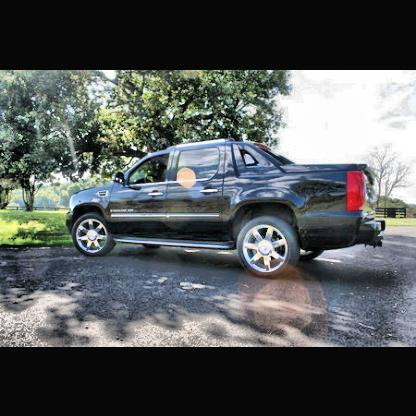Cadillac Escalade EXT Crew Cab 2007: (64, 136, 393, 282)
